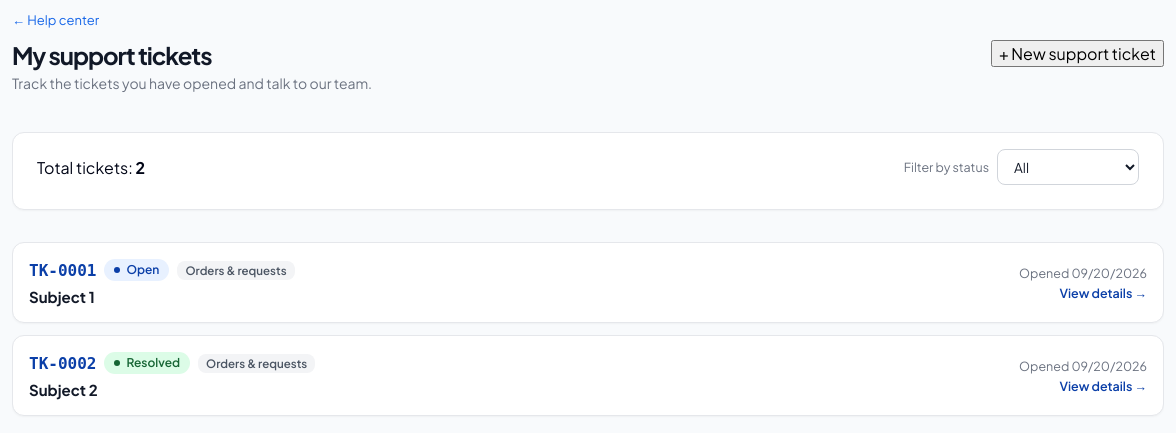
Test: CustomerTicketsListPage › shows English status labels and filters by status
The width and height of the screenshot is (1176, 433).
expect the link "Subject 1" is shown: met, box [29,287,95,306]
expect the heading "My support tickets" is shown: met, box [12,40,211,70]
Select "Resolved" in the dropdown labelled "Filter by status" at (1068, 167), box [997,149,1139,185]
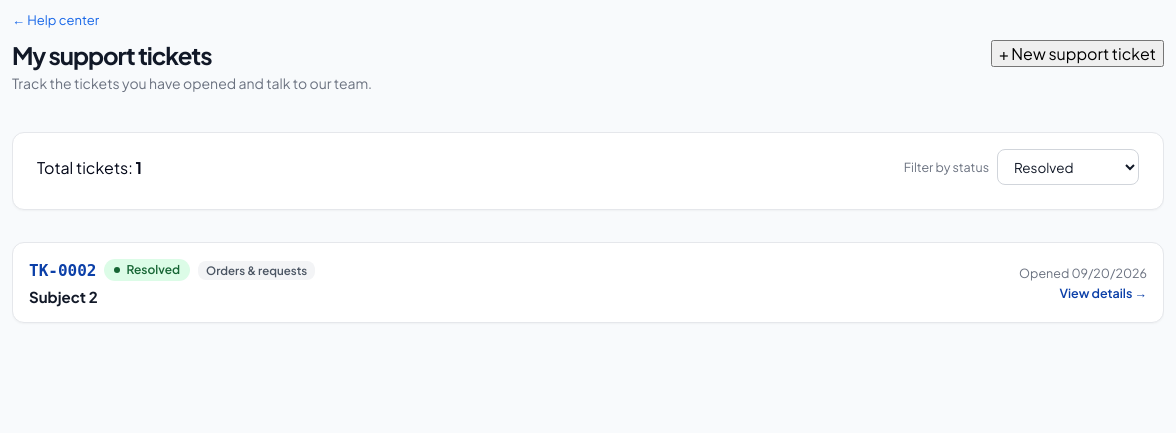
expect the link "Subject 2" is shown: met, box [29,287,98,306]
expect the link "Subject 1" is gone: met
